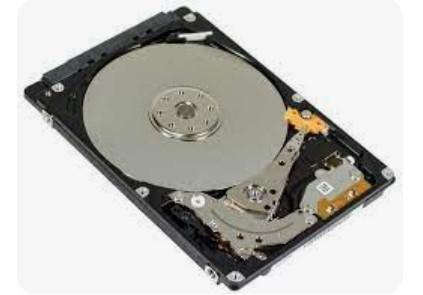internal HDD: (29, 7, 396, 291)
